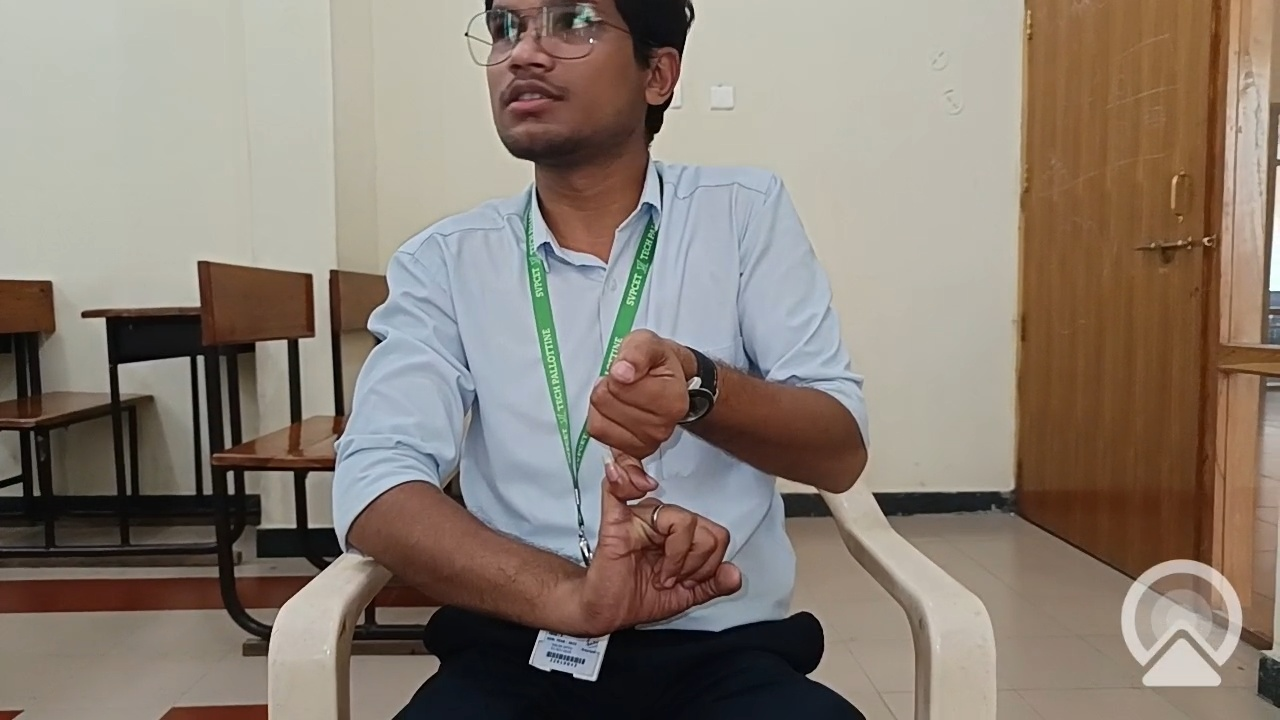S: (526, 282, 829, 686)
